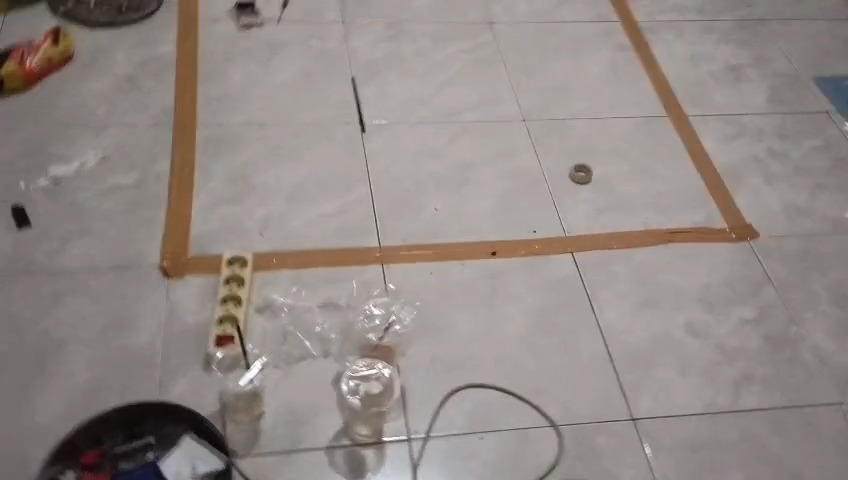floor marking: (254, 0, 759, 270), (160, 0, 223, 277)
